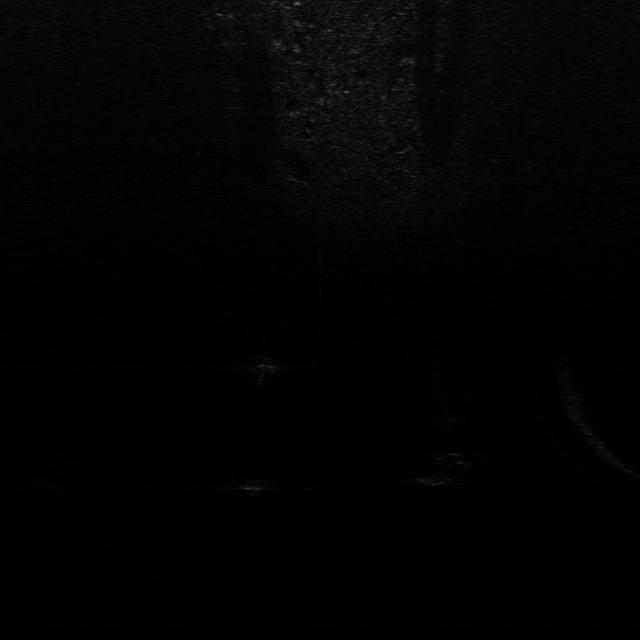cube: (228, 477, 288, 500)
square cage: (248, 351, 283, 379)
tyre: (423, 447, 469, 488)
